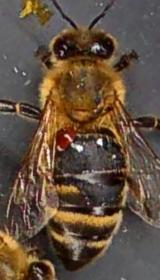varroa_mite: (47, 119, 82, 155)
